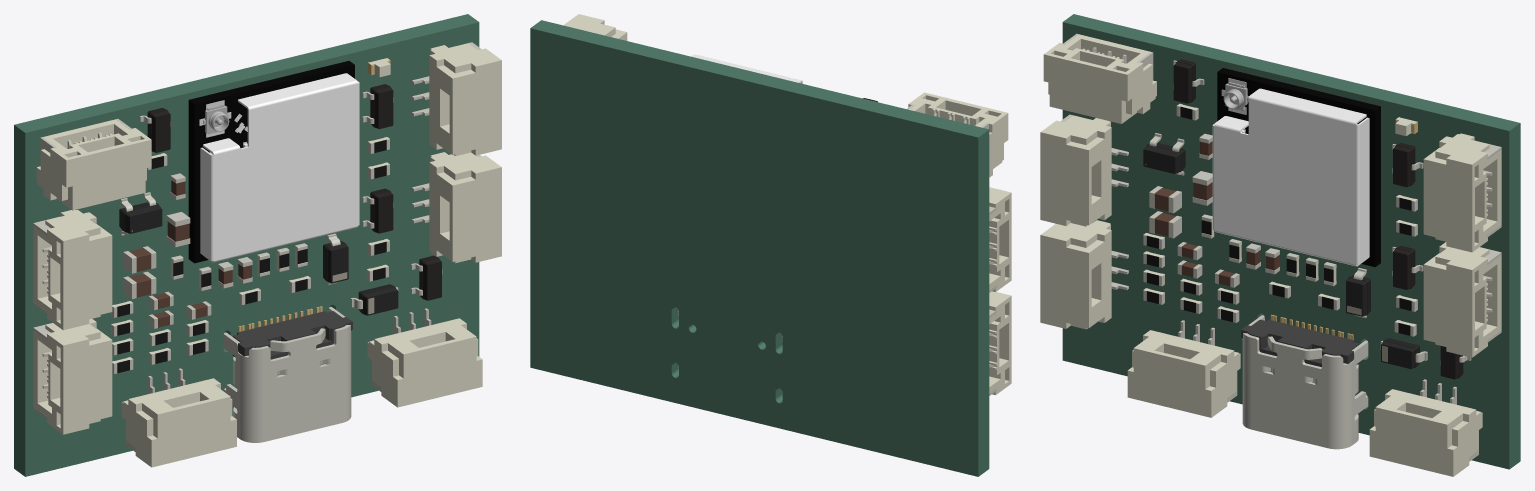
The model's file is board.glb.
The picture shows the model from 3 angles, left to right: view 1: azimuth 30°, elevation 25°; view 2: azimuth 150°, elevation 25°; view 3: azimuth 330°, elevation 25°; orthographic projection.
Visible parts, largest first — view 1: =>[0:1:1:22], =>[0:1:1:19]_d2bf4f, =>[0:1:1:3]_bf4ffe, =>[0:1:1:7]_3_6523ee, =>[0:1:1:7]_6_3d916d, =>[0:1:1:7]_4_d6ce85, =>[0:1:1:7]_5_99e30d, =>[0:1:1:7]_894c6c, =>[0:1:1:7]_2_6432c3, =>[0:1:1:7]_1_318fd9, =>[0:1:1:19]_26e412, =>[0:1:1:3]_e217ea (+8 smaller); view 2: =>[0:1:1:22], =>[0:1:1:7]_6_3d916d, =>[0:1:1:7]_3_6523ee, =>[0:1:1:7]_4_d6ce85, =>[0:1:1:7]_5_99e30d; view 3: =>[0:1:1:22], =>[0:1:1:19]_d2bf4f, =>[0:1:1:3]_bf4ffe, =>[0:1:1:7]_5_99e30d, =>[0:1:1:7]_6_3d916d, =>[0:1:1:7]_1_318fd9, =>[0:1:1:7]_3_6523ee, =>[0:1:1:7]_2_6432c3, =>[0:1:1:7]_894c6c, =>[0:1:1:7]_4_d6ce85, =>[0:1:1:19]_26e412, =>[0:1:1:3]_e217ea (+8 smaller).
Part boxes in pixels (x1,y1,x2,y2): =>[0:1:1:22]: (14, 14, 479, 476); =>[0:1:1:19]_d2bf4f: (200, 73, 359, 262); =>[0:1:1:3]_bf4ffe: (223, 306, 351, 442); =>[0:1:1:7]_3_6523ee: (33, 210, 112, 330); =>[0:1:1:7]_6_3d916d: (36, 119, 151, 210); =>[0:1:1:7]_4_d6ce85: (33, 319, 112, 434); =>[0:1:1:7]_5_99e30d: (429, 43, 501, 156); =>[0:1:1:7]_894c6c: (121, 378, 236, 467); =>[0:1:1:7]_2_6432c3: (367, 318, 482, 407); =>[0:1:1:7]_1_318fd9: (429, 152, 501, 263); =>[0:1:1:19]_26e412: (188, 61, 354, 263); =>[0:1:1:3]_e217ea: (232, 311, 352, 374); =>[0:1:1:22]: (530, 20, 989, 476); =>[0:1:1:7]_6_3d916d: (908, 92, 1008, 177); =>[0:1:1:7]_3_6523ee: (989, 187, 1011, 291); =>[0:1:1:7]_4_d6ce85: (989, 291, 1011, 395); =>[0:1:1:7]_5_99e30d: (563, 14, 627, 40); =>[0:1:1:22]: (1062, 14, 1520, 469); =>[0:1:1:19]_d2bf4f: (1212, 88, 1369, 266); =>[0:1:1:3]_bf4ffe: (1242, 315, 1368, 449); =>[0:1:1:7]_5_99e30d: (1423, 133, 1501, 252); =>[0:1:1:7]_6_3d916d: (1043, 34, 1156, 123); =>[0:1:1:7]_1_318fd9: (1423, 242, 1501, 357); =>[0:1:1:7]_3_6523ee: (1040, 115, 1111, 226); =>[0:1:1:7]_2_6432c3: (1369, 389, 1482, 476); =>[0:1:1:7]_894c6c: (1127, 330, 1240, 417); =>[0:1:1:7]_4_d6ce85: (1040, 220, 1111, 329); =>[0:1:1:19]_26e412: (1217, 68, 1380, 267); =>[0:1:1:3]_e217ea: (1241, 319, 1359, 382).
Size of the model in its own units: 37.3 by 27.03 by 5.89.
